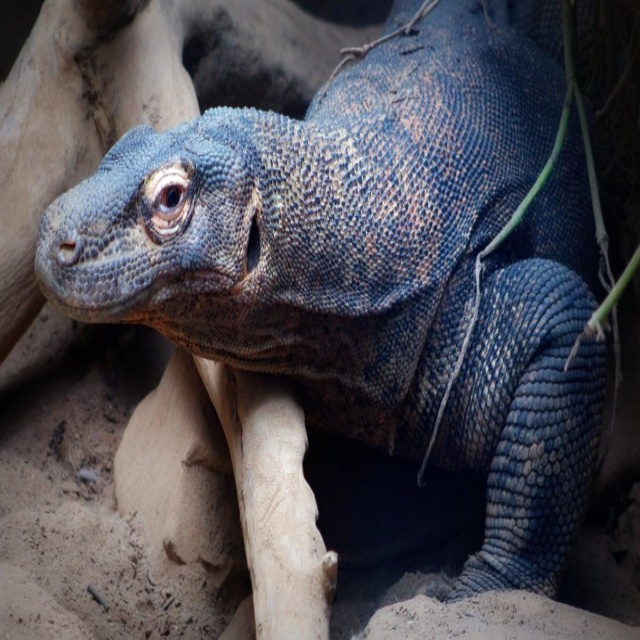Lizard: (35, 0, 640, 605)
